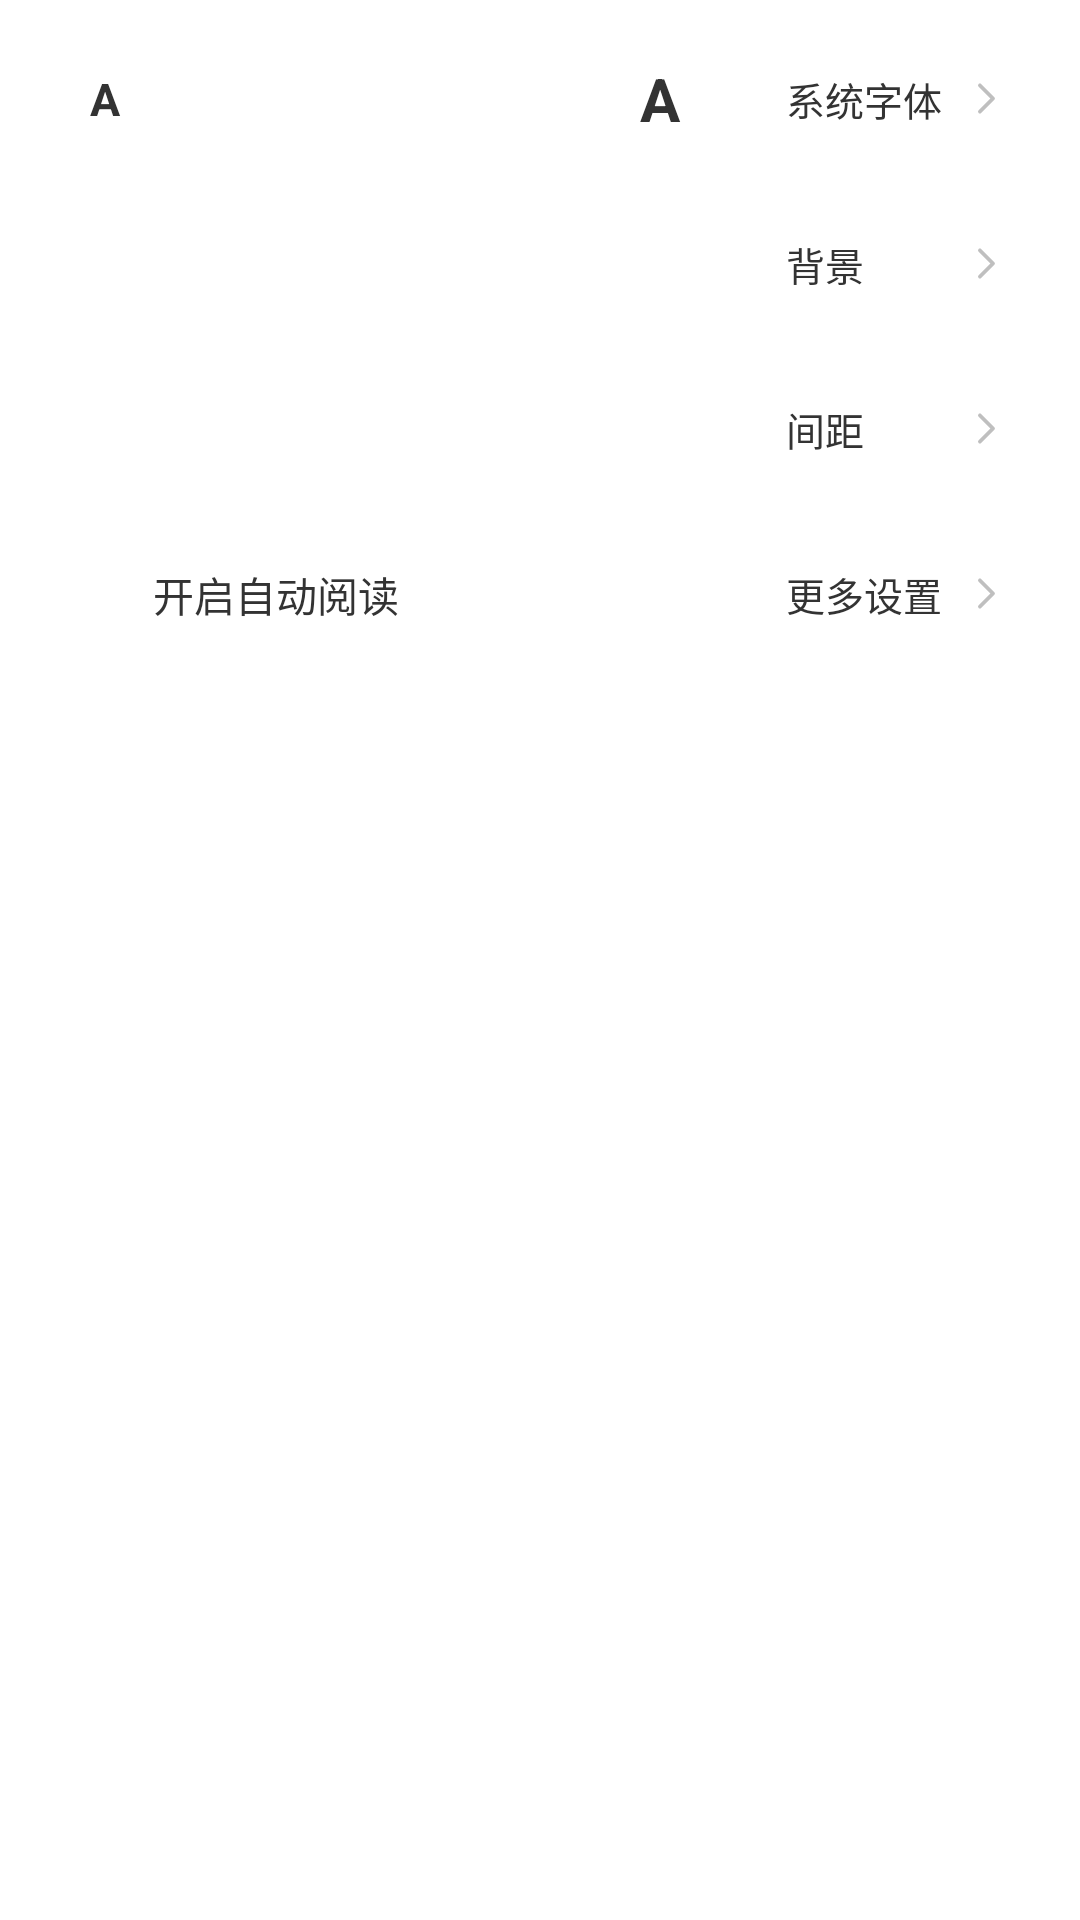

Icon click points for this 1080×1920 phone screenshot, format point (x, y):
chevron: point (986, 98), point (986, 263), point (986, 428), point (986, 593)
